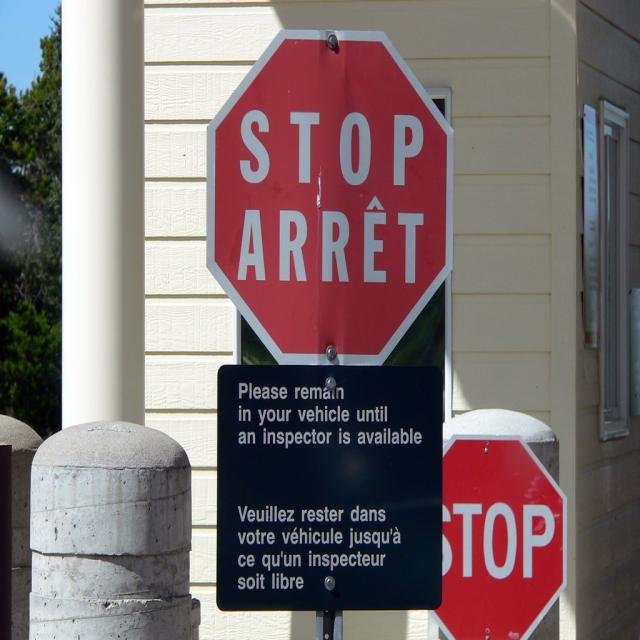Stop-sign: (204, 29, 453, 367), (426, 432, 572, 639)
